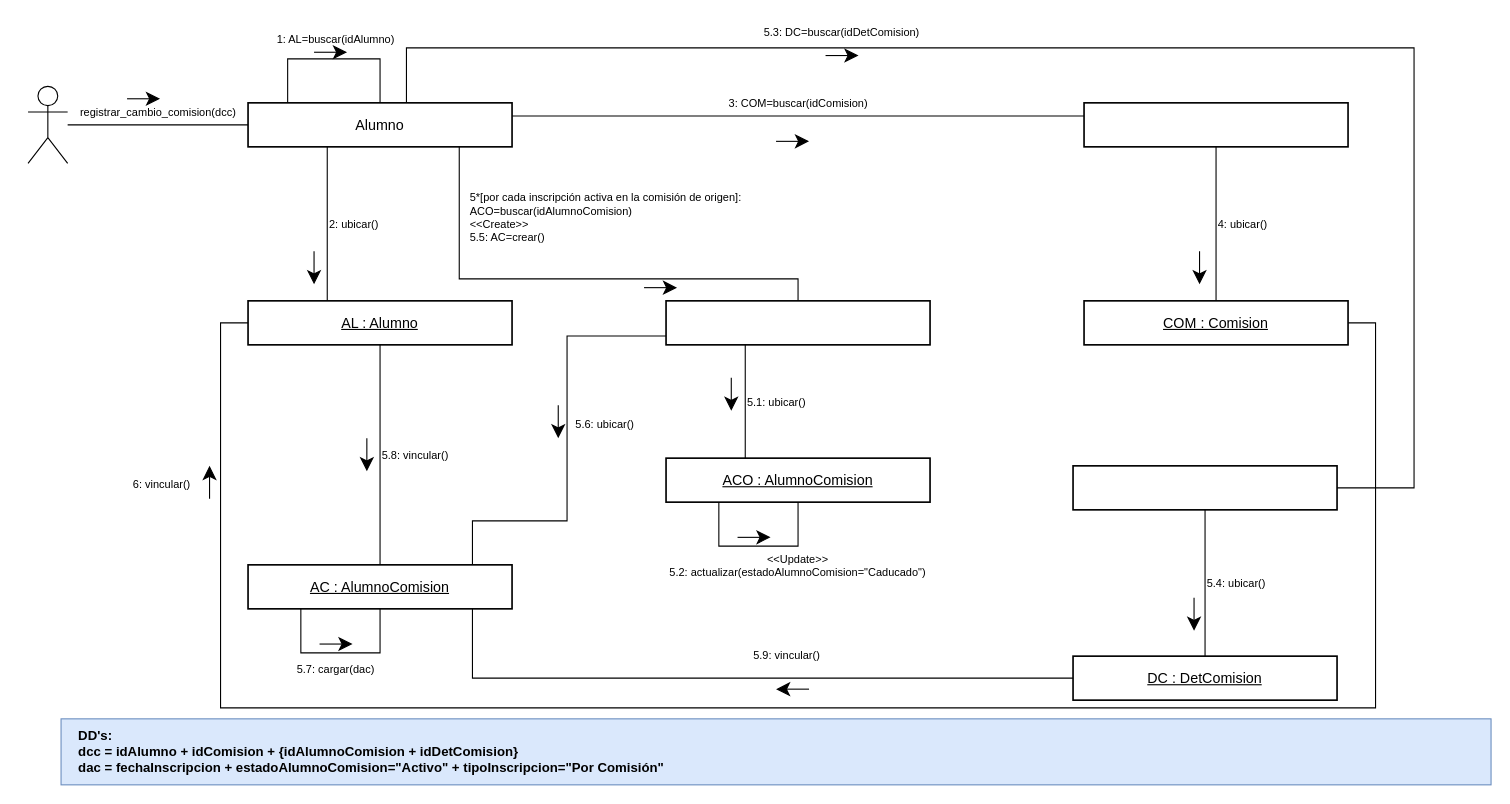
This 1510x804 diagram has some shape labels left out. The centre of each missing label's shape, as x and y in pixels:
AlumnoComision: [797,322]
Comision: [1215,124]
DetComision: [1204,487]
Preceptor: [47,124]
